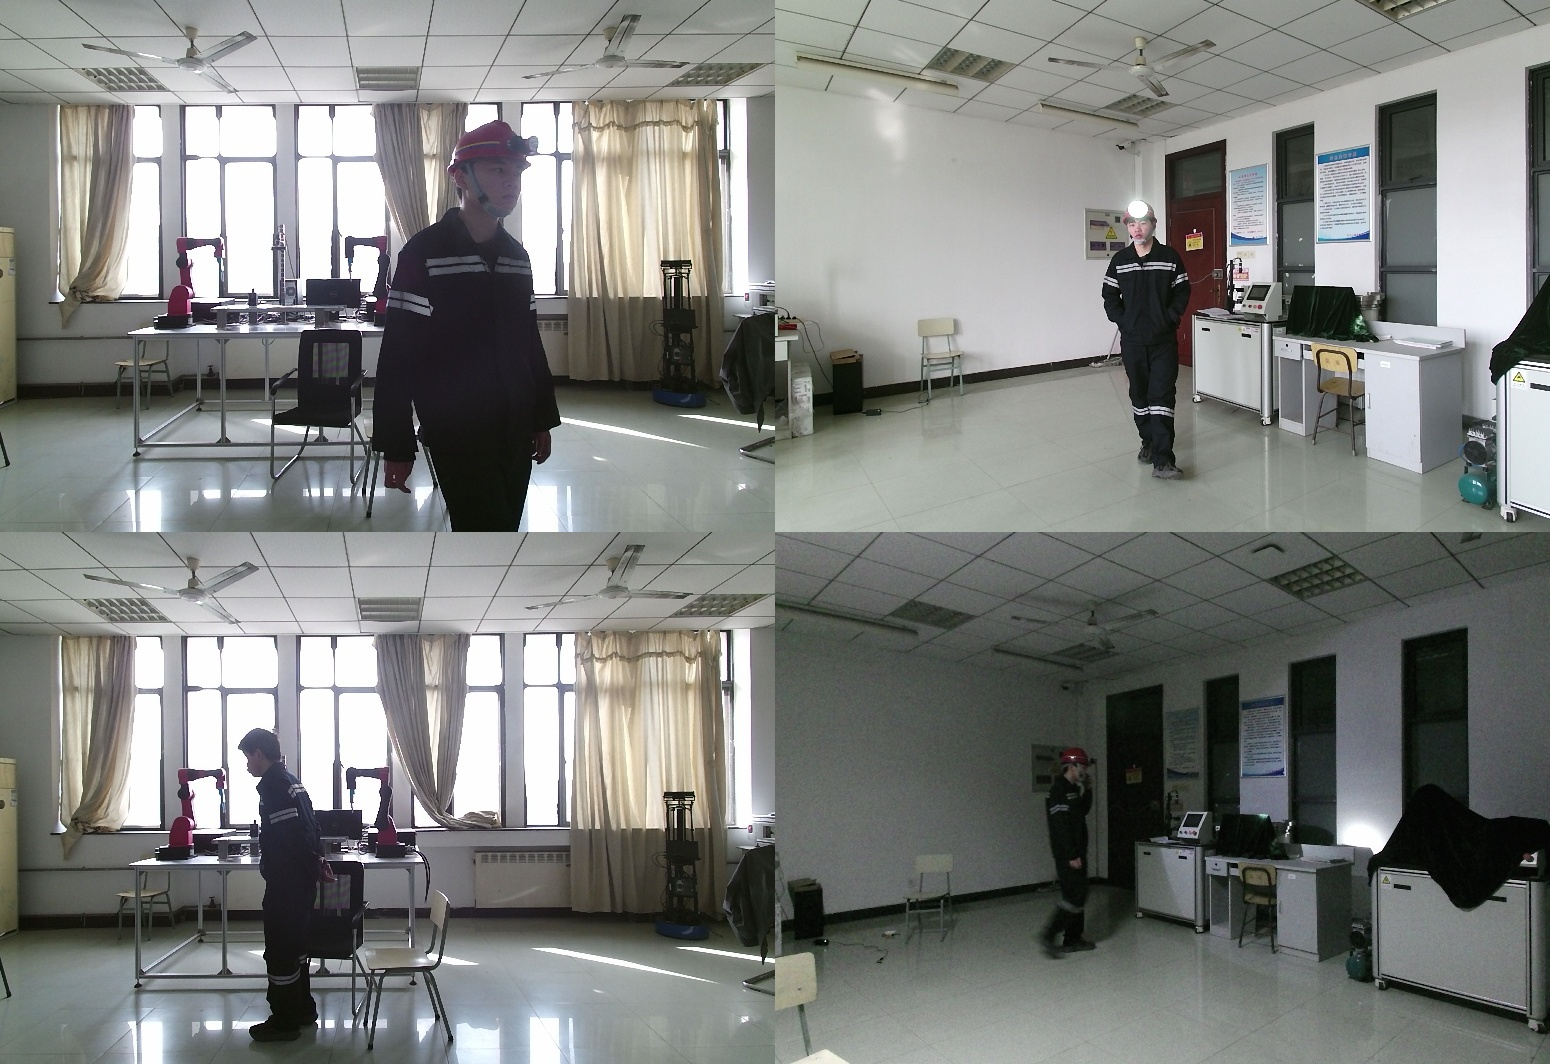person: (383, 121, 571, 532), (238, 728, 336, 1039), (1100, 203, 1200, 480), (1017, 748, 1099, 970)
